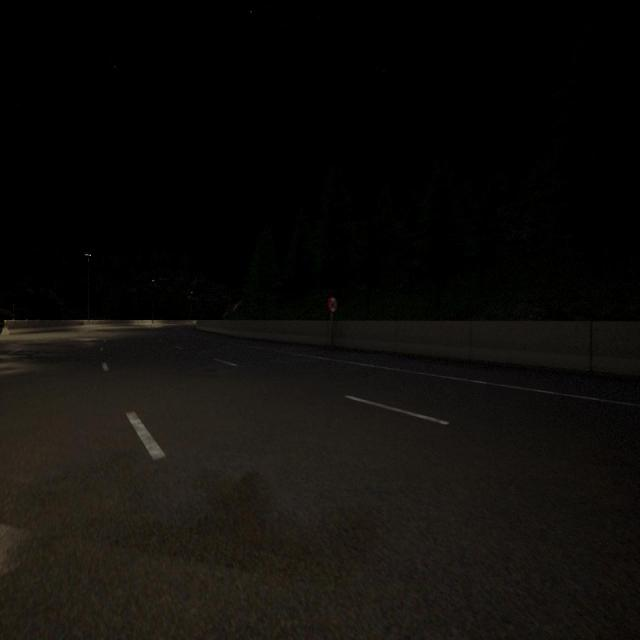Traffic_Signs: (328, 297, 337, 312)
